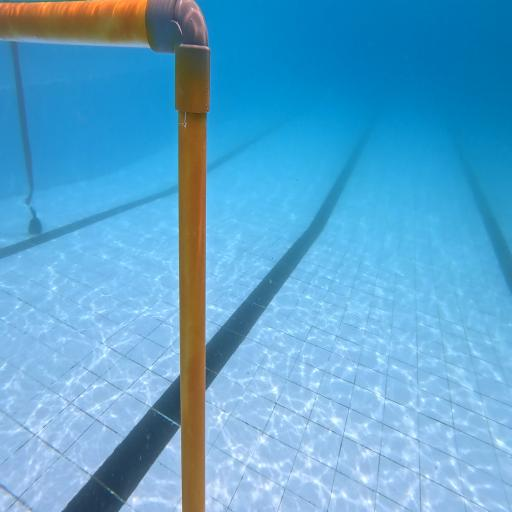gate: (1, 0, 211, 512)
